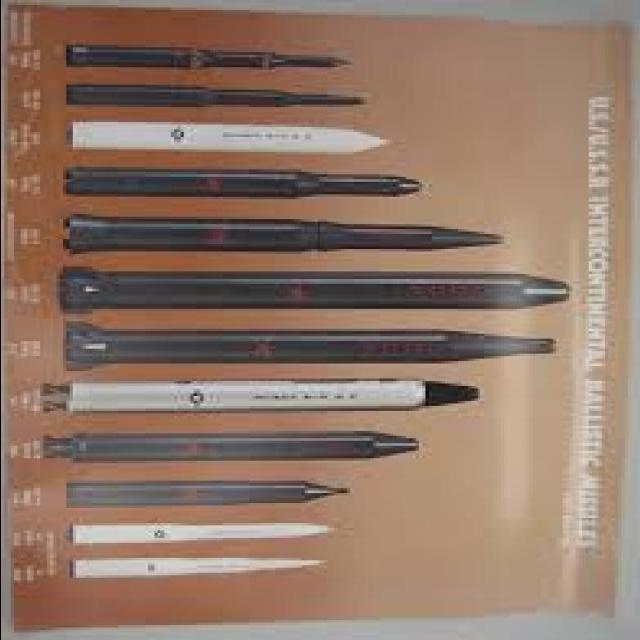missile: (61, 262, 595, 318), (53, 214, 523, 260), (70, 374, 484, 421), (52, 114, 428, 162), (25, 427, 439, 468), (55, 159, 433, 202), (51, 475, 357, 520), (59, 42, 362, 81), (68, 550, 349, 587)
